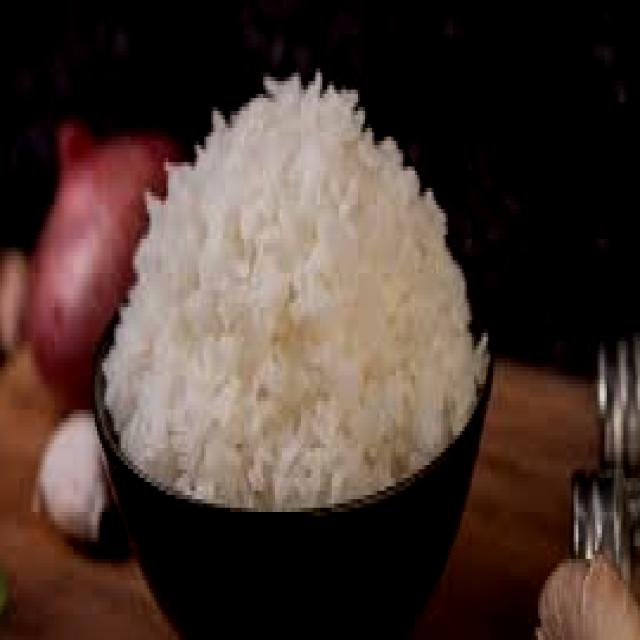nasi: (99, 70, 498, 510)
